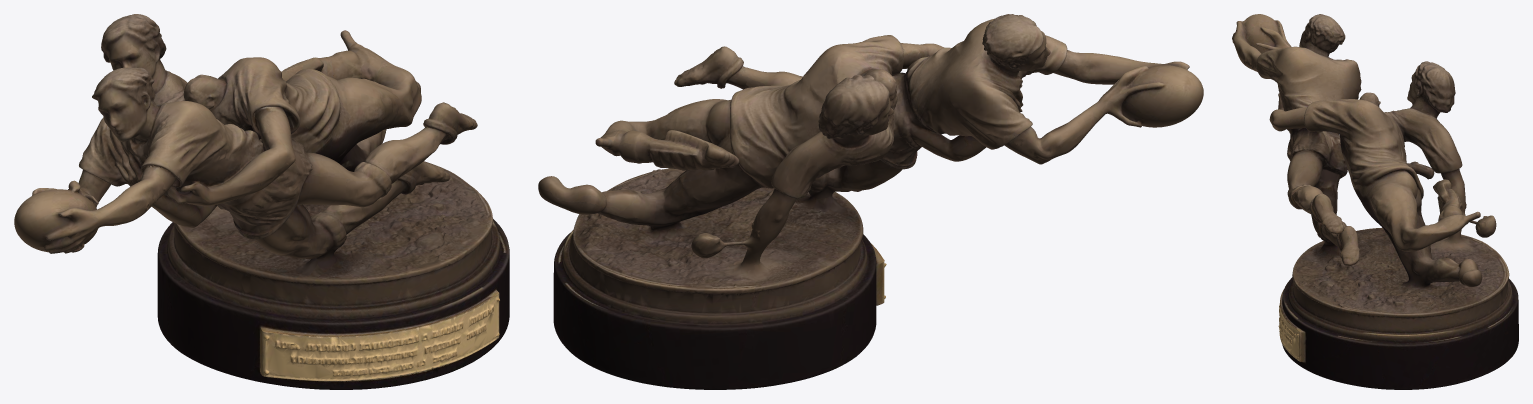
The model's file is meilleurNZ.glb.
The picture shows the model from 3 angles, left to right: view 1: azimuth 30°, elevation 25°; view 2: azimuth 150°, elevation 25°; view 3: azimuth 270°, elevation 25°; orthographic projection. The views are drawn at different scales.
Visible parts, largest first — view 1: mesh_node; view 2: mesh_node; view 3: mesh_node.
Boxes of the visible parts, x1=… form: mesh_node: x1=14, y1=14, x2=509, y2=389; mesh_node: x1=538, y1=14, x2=1203, y2=389; mesh_node: x1=1232, y1=14, x2=1518, y2=389.
Bounding box in the file's own units: 1.9 × 1.12 × 1.23.
Materials: 1 (1 with a texture image).
